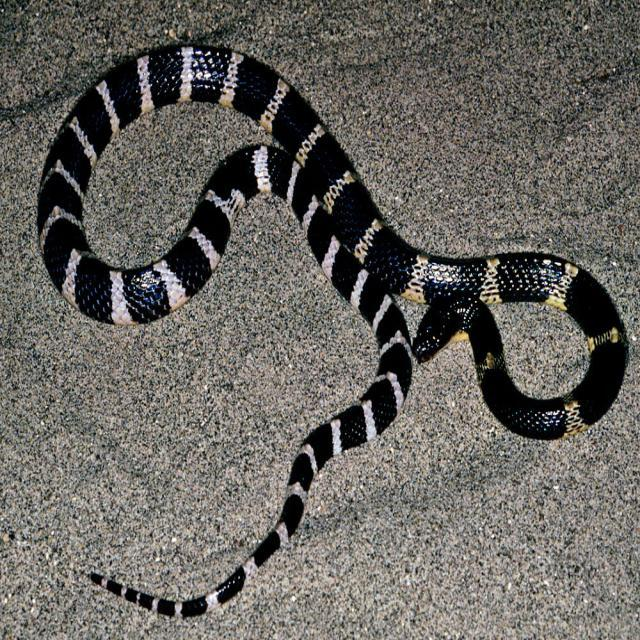Snake: (36, 41, 628, 620)
